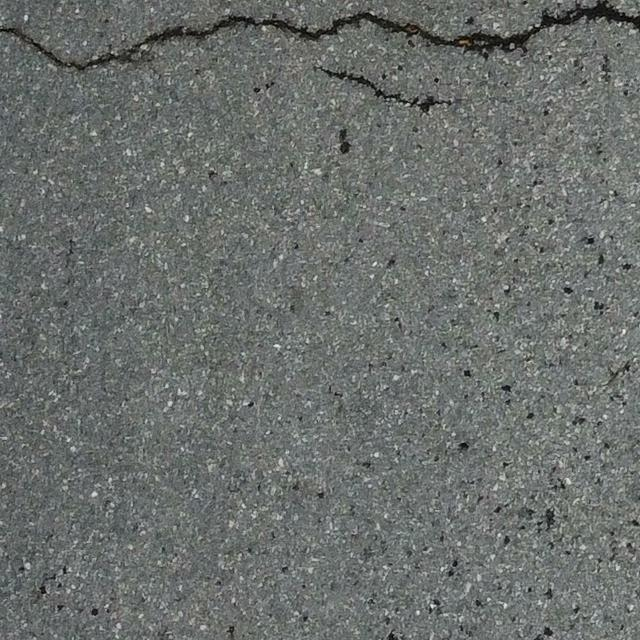TransverseCrack: (1, 1, 640, 70), (317, 64, 452, 118)
